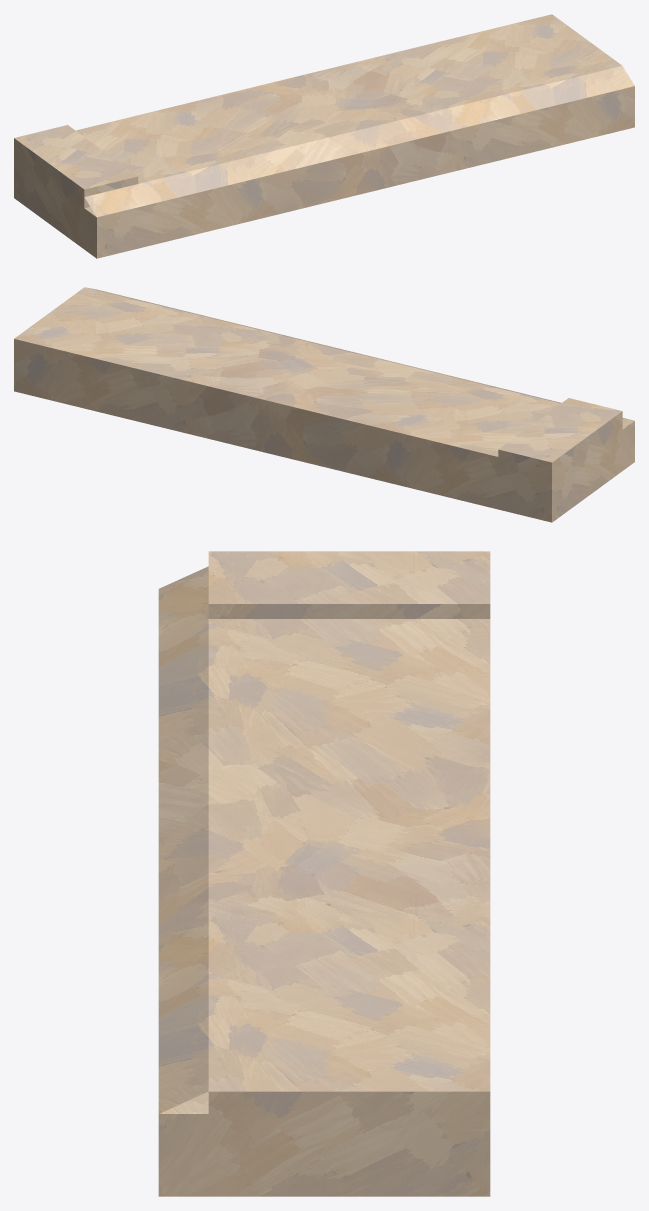
File: pavement-end.glb
3 views of the same model, one above another, from view 1: azimuth 30°, elevation 25°; view 2: azimuth 150°, elevation 25°; view 3: azimuth 270°, elevation 25° (orthographic). The views are drawn at different scales.
Parts seen in each view (by area): view 1: pavement-end; view 2: pavement-end; view 3: pavement-end.
Boxes of the visible parts, box(x1,y1,x2,y2) form: pavement-end: box(14, 14, 634, 258); pavement-end: box(14, 287, 634, 522); pavement-end: box(158, 551, 490, 1196).
Bounding box in the file's own units: 1.5 × 0.16 × 0.4.
Materials: 1 (1 with a texture image).
